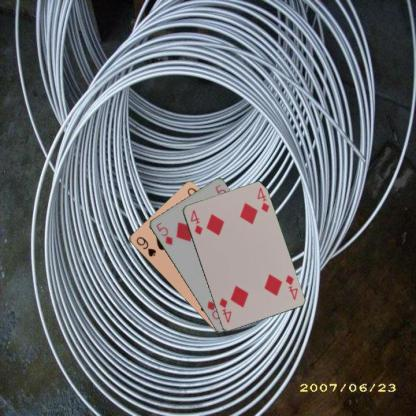4d: (188, 207, 204, 236), (282, 272, 298, 301)
5d: (153, 220, 174, 246)
9s: (134, 234, 157, 258)
